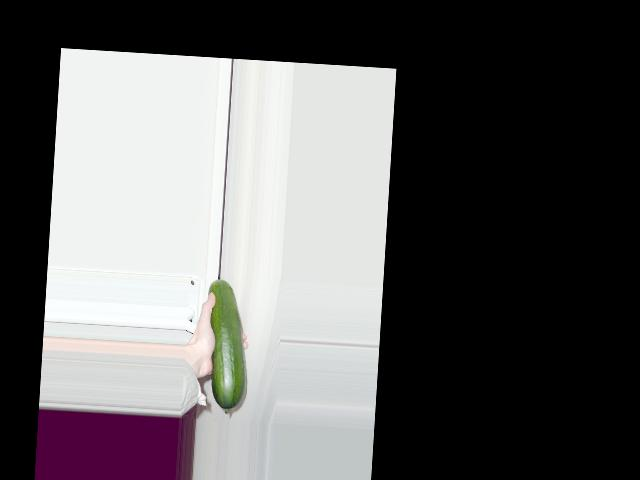cucumber: (201, 278, 253, 414)
